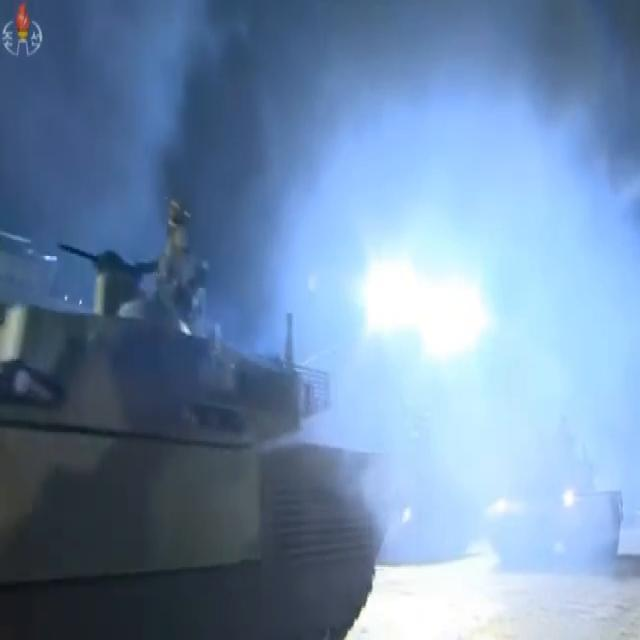north tank: (2, 204, 409, 640)
